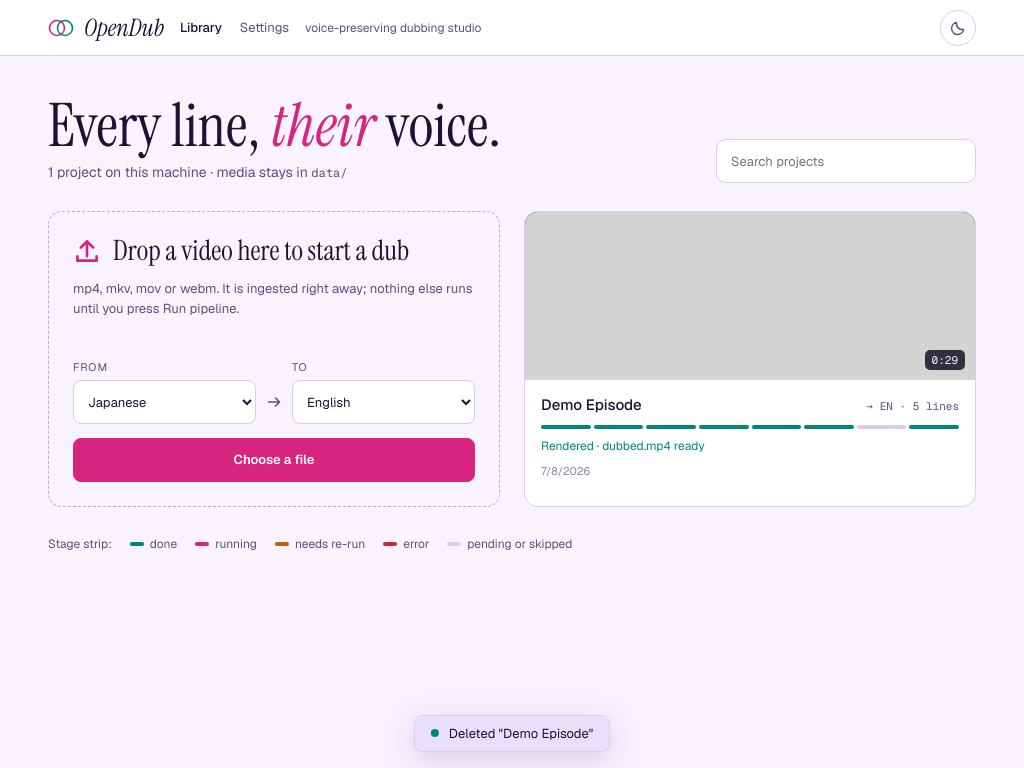
Scenario: App — renders the page as intended › renders dialogs at the document root, outside the transformed card
Hover over the text "Demo Episode" at coordinates (591, 405), box [541, 394, 642, 416]
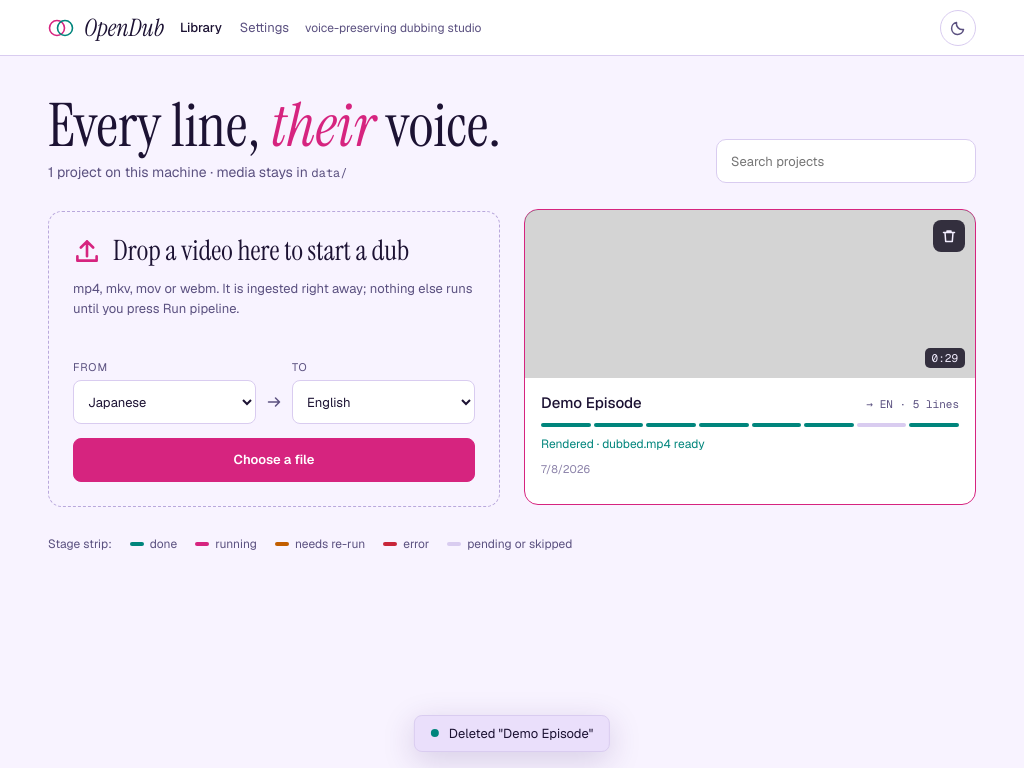
Click the button titled "Delete project" at coordinates (949, 236), box [933, 220, 965, 252]
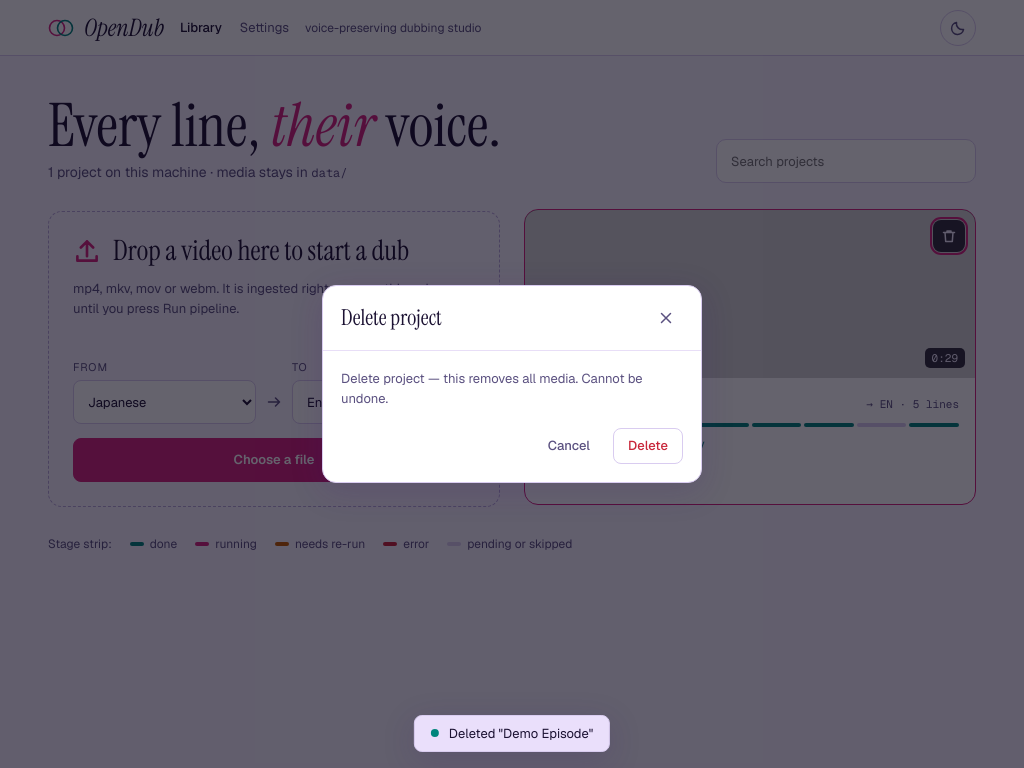
Expected: the text "Delete project — this removes all media. Cannot be undone." is shown, [341, 369, 683, 408]
